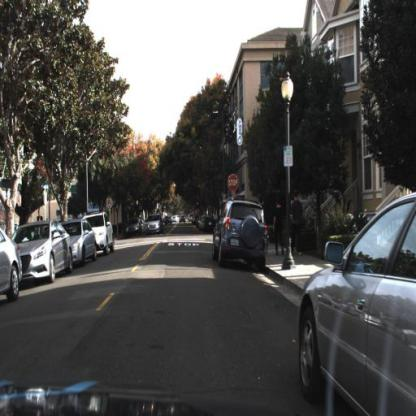car: (300, 193, 416, 416), (212, 199, 271, 274), (13, 220, 74, 288), (2, 228, 24, 306), (68, 217, 97, 268), (91, 212, 116, 257), (93, 212, 118, 256), (144, 211, 165, 239), (147, 211, 165, 237), (126, 218, 143, 237)
pedestrian: (272, 191, 286, 263), (290, 191, 304, 257)
